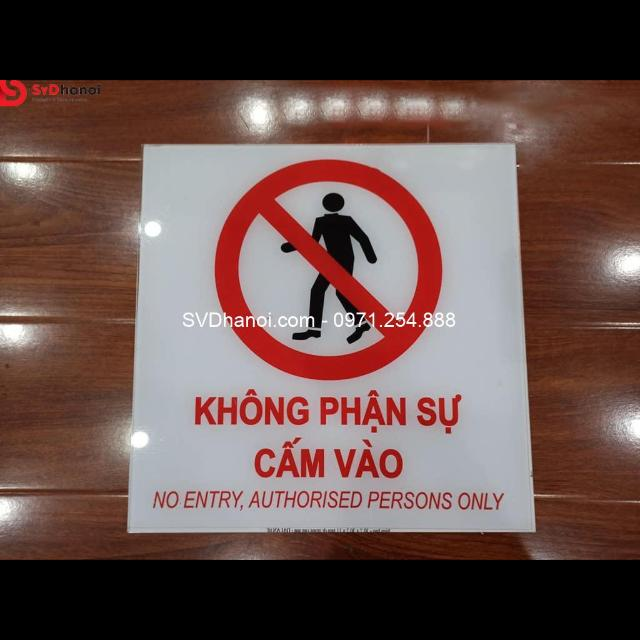khong phan su mien vao: (128, 144, 535, 533)
